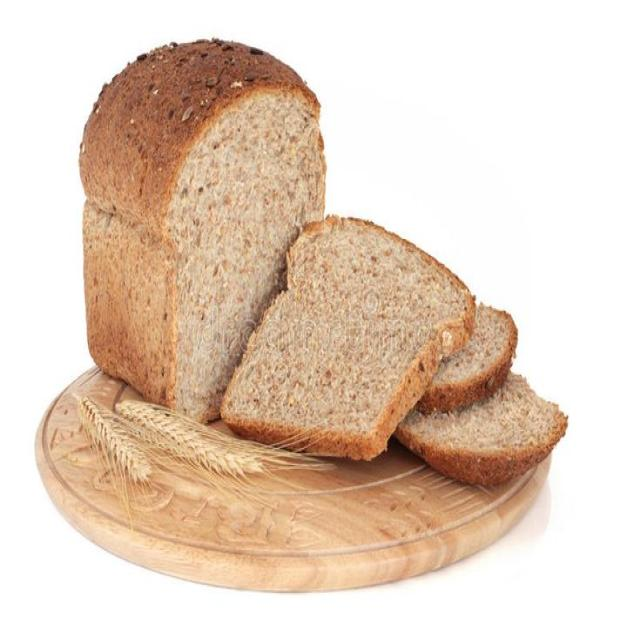bread: (79, 38, 325, 419)
sliced bread: (222, 217, 475, 457), (396, 374, 565, 482), (421, 303, 516, 409)
